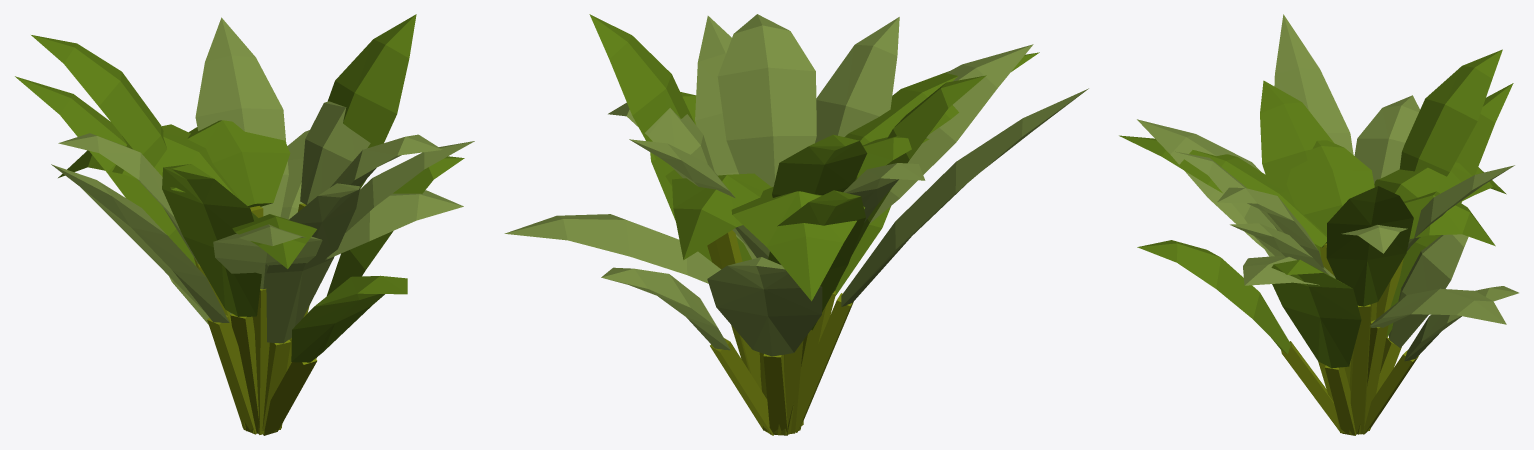
Rendered from SM_Clutter_PlantHerb_01.fbx.
3 renders of one model, left to right at view 1: azimuth 30°, elevation 25°; view 2: azimuth 150°, elevation 25°; view 3: azimuth 270°, elevation 25°, orthographic. The views are drawn at different scales.
Visible parts, largest first — view 1: SM_Clutter_PlantHerb_01; view 2: SM_Clutter_PlantHerb_01; view 3: SM_Clutter_PlantHerb_01.
Boxes of the visible parts, x1,y1,x2,y2 form: SM_Clutter_PlantHerb_01: [15, 14, 474, 435]; SM_Clutter_PlantHerb_01: [504, 14, 1088, 435]; SM_Clutter_PlantHerb_01: [1119, 14, 1518, 435].
Size of the model in its own units: 0.293 by 0.2399 by 0.2741.
Materials: 1 (1 with a texture image).
